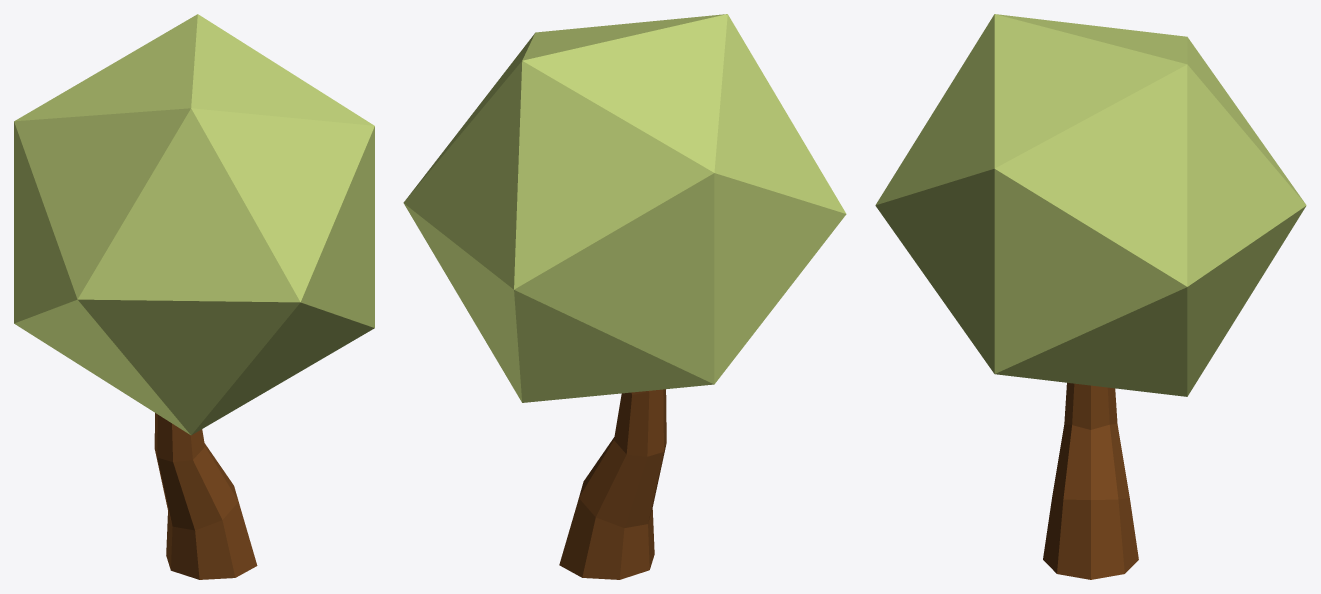
The model's file is Bush3.glb.
The picture shows the model from 3 angles, left to right: view 1: azimuth 30°, elevation 25°; view 2: azimuth 150°, elevation 25°; view 3: azimuth 270°, elevation 25°; orthographic projection. The views are drawn at different scales.
Parts seen in each view (by area): view 1: Bush3; view 2: Bush3; view 3: Bush3.
Boxes of the visible parts, x1,y1,x2,y2 form: Bush3: (14, 14, 374, 579); Bush3: (403, 14, 846, 579); Bush3: (875, 14, 1306, 579).
Bounding box in the file's own units: 0.8552 × 1.25 × 0.9562.
